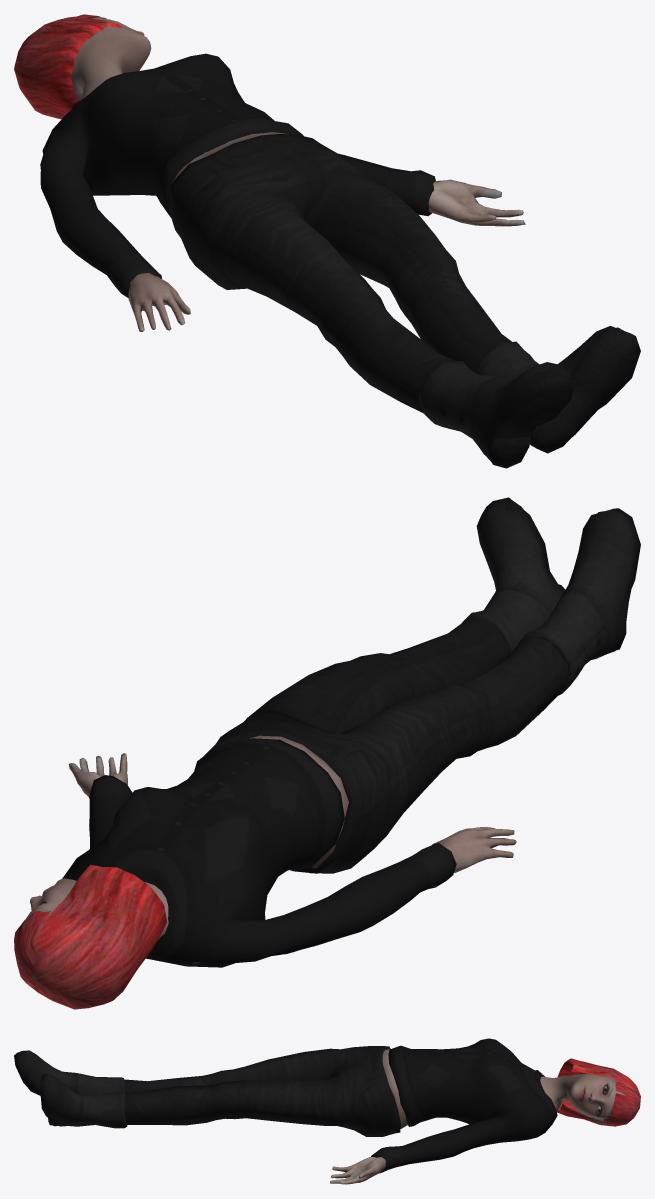
The model's file is femaleHalloween.fbx.
3 views of the same model, one above another, from view 1: azimuth 30°, elevation 25°; view 2: azimuth 150°, elevation 25°; view 3: azimuth 270°, elevation 25° (orthographic). The views are drawn at different scales.
Parts seen in each view (by area): view 1: femaleHalloween; view 2: femaleHalloween; view 3: femaleHalloween.
Part boxes in pixels (x1,y1,x2,y2): femaleHalloween: [14, 14, 640, 468]; femaleHalloween: [14, 497, 640, 1009]; femaleHalloween: [14, 1038, 640, 1184].
Size of the model in its own units: 1.62 by 0.5213 by 3.72.
1 material, 1 textured.
